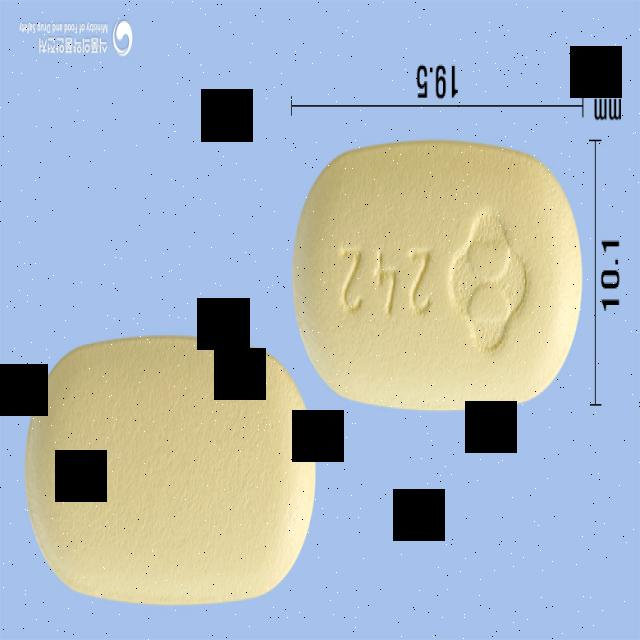Isentress: (290, 140, 582, 412), (24, 335, 317, 606)
